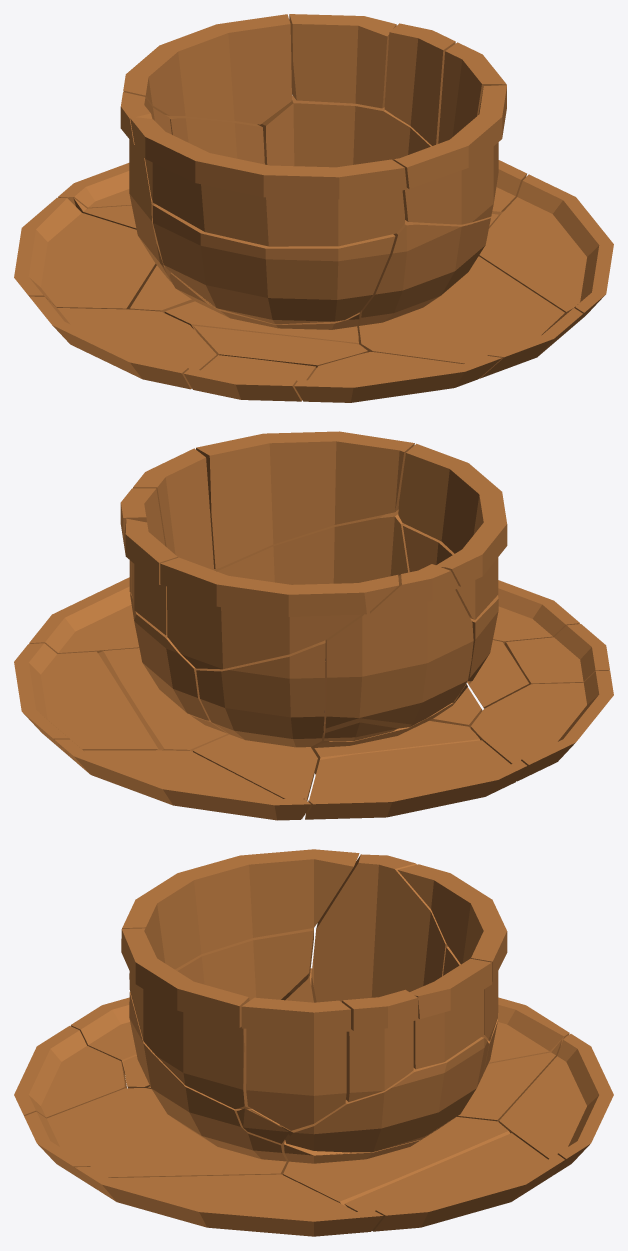
The model's file is SmallPotShatter.fbx.
3 renders of one model, top to bottom at view 1: azimuth 30°, elevation 25°; view 2: azimuth 150°, elevation 25°; view 3: azimuth 270°, elevation 25°, orthographic.
Parts seen in each view (by area): view 1: Pot_Small_cell, Pot_Small_cell.009, Pot_Small_cell.014, Pot_Small_cell.006, Pot_Small_cell.021, Pot_Small_cell.001, Pot_Small_cell.002, Pot_Small_cell.022, Pot_Small_cell.003, Pot_Small_cell.018, Pot_Small_cell.015, Pot_Small_cell.016 (+9 smaller); view 2: Pot_Small_cell.002, Pot_Small_cell.010, Pot_Small_cell.006, Pot_Small_cell.017, Pot_Small_cell.001, Pot_Small_cell, Pot_Small_cell.008, Pot_Small_cell.005, Pot_Small_cell.009, Pot_Small_cell.003, Pot_Small_cell.013, Pot_Small_cell.019 (+11 smaller); view 3: Pot_Small_cell.009, Pot_Small_cell, Pot_Small_cell.010, Pot_Small_cell.002, Pot_Small_cell.013, Pot_Small_cell.021, Pot_Small_cell.022, Pot_Small_cell.008, Pot_Small_cell.005, Pot_Small_cell.019, Pot_Small_cell.006, Pot_Small_cell.016 (+8 smaller).
Boxes of the visible parts, x1=… form: Pot_Small_cell: x1=130, y1=117, x2=406, y2=246; Pot_Small_cell.009: x1=357, y1=216, x2=582, y2=378; Pot_Small_cell.014: x1=152, y1=204, x2=395, y2=324; Pot_Small_cell.006: x1=123, y1=14, x2=291, y2=124; Pot_Small_cell.021: x1=479, y1=174, x2=613, y2=327; Pot_Small_cell.001: x1=14, y1=198, x2=155, y2=309; Pot_Small_cell.002: x1=393, y1=85, x2=506, y2=224; Pot_Small_cell.022: x1=257, y1=95, x2=431, y2=167; Pot_Small_cell.003: x1=29, y1=296, x2=217, y2=389; Pot_Small_cell.018: x1=289, y1=14, x2=396, y2=108; Pot_Small_cell.015: x1=294, y1=352, x2=501, y2=402; Pot_Small_cell.016: x1=384, y1=23, x2=455, y2=145; Pot_Small_cell.002: x1=196, y1=431, x2=414, y2=568; Pot_Small_cell.010: x1=323, y1=564, x2=473, y2=736; Pot_Small_cell.006: x1=160, y1=557, x2=398, y2=669; Pot_Small_cell.017: x1=192, y1=640, x2=325, y2=818; Pot_Small_cell.001: x1=305, y1=740, x2=526, y2=819; Pot_Small_cell: x1=398, y1=443, x2=507, y2=619; Pot_Small_cell.008: x1=14, y1=643, x2=158, y2=760; Pot_Small_cell.005: x1=54, y1=739, x2=310, y2=820; Pot_Small_cell.009: x1=214, y1=509, x2=409, y2=661; Pot_Small_cell.003: x1=471, y1=670, x2=613, y2=781; Pot_Small_cell.013: x1=133, y1=448, x2=213, y2=570; Pot_Small_cell.019: x1=98, y1=648, x2=229, y2=751; Pot_Small_cell.009: x1=24, y1=992, x2=288, y2=1189; Pot_Small_cell: x1=122, y1=849, x2=359, y2=969; Pot_Small_cell.010: x1=311, y1=854, x2=447, y2=1002; Pot_Small_cell.002: x1=121, y1=928, x2=251, y2=1109; Pot_Small_cell.013: x1=241, y1=997, x2=350, y2=1130; Pot_Small_cell.021: x1=75, y1=1167, x2=383, y2=1236; Pot_Small_cell.022: x1=281, y1=1037, x2=488, y2=1152; Pot_Small_cell.008: x1=344, y1=1133, x2=564, y2=1231; Pot_Small_cell.005: x1=499, y1=1034, x2=613, y2=1175; Pot_Small_cell.019: x1=283, y1=1117, x2=510, y2=1206; Pot_Small_cell.006: x1=397, y1=864, x2=507, y2=1041; Pot_Small_cell.016: x1=342, y1=989, x2=418, y2=1101.
Bounding box in the file's own units: 51.31 × 17.72 × 51.31.
